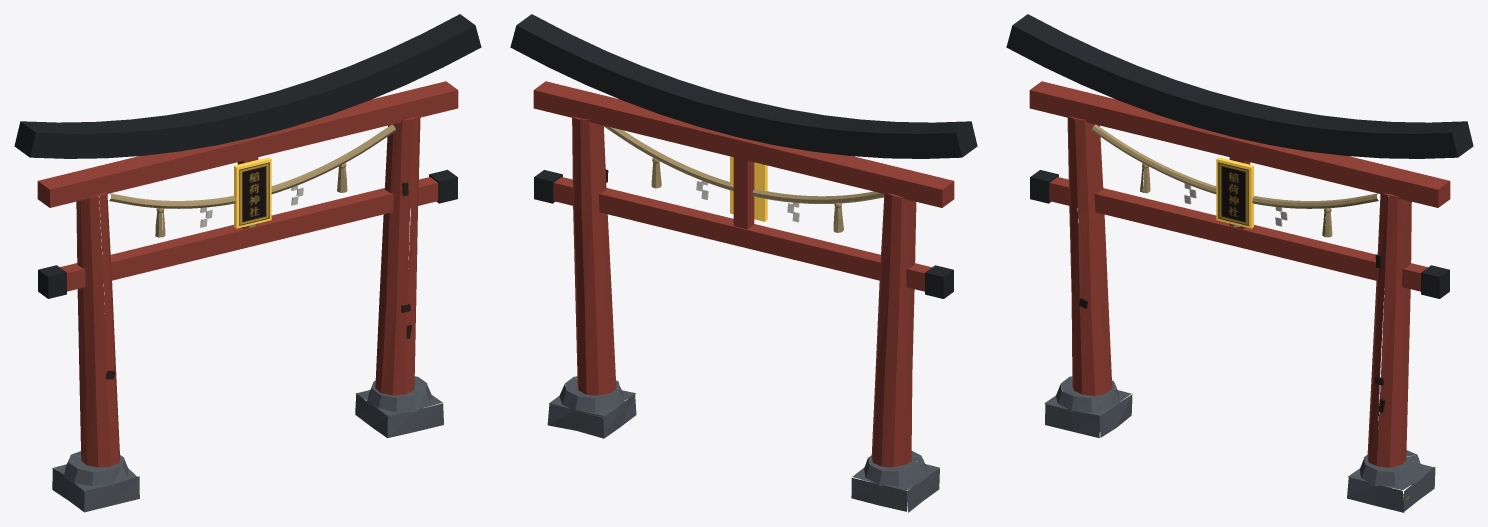
The model's file is 2-05_torii_rope_thin.glb.
3 renders of one model, left to right at view 1: azimuth 30°, elevation 25°; view 2: azimuth 150°, elevation 25°; view 3: azimuth 330°, elevation 25°, orthographic.
Visible parts, largest first — view 1: しめ縄（細）; view 2: しめ縄（細）; view 3: しめ縄（細）.
Boxes of the visible parts, box(x1,y1,x2,y2) form: しめ縄（細）: box(14, 14, 481, 512); しめ縄（細）: box(510, 14, 977, 512); しめ縄（細）: box(1006, 14, 1473, 512).
Size of the model in its own units: 7.74 by 6.3 by 1.01.
9 materials, 1 textured.
